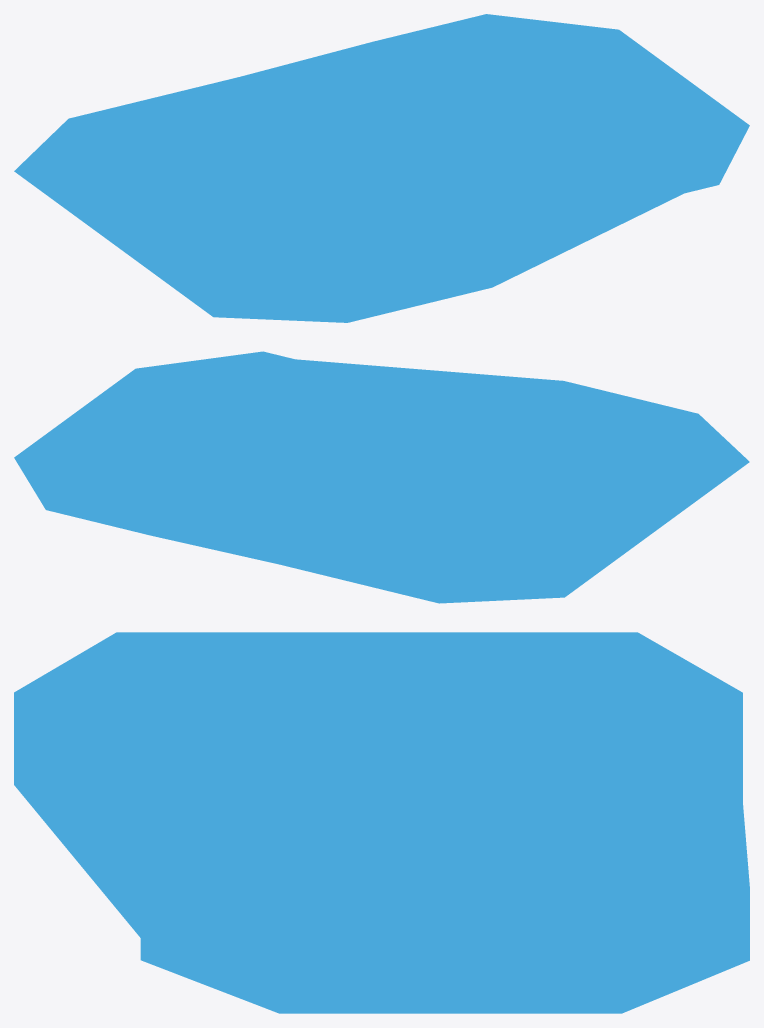
Rendered from hirise_parts02_pool_r_water.fbx.
3 views of the same model, one above another, from view 1: azimuth 30°, elevation 25°; view 2: azimuth 150°, elevation 25°; view 3: azimuth 270°, elevation 25° (orthographic). The views are drawn at different scales.
Visible parts, largest first — view 1: hirise_parts02_pool_r_water; view 2: hirise_parts02_pool_r_water; view 3: hirise_parts02_pool_r_water.
Part boxes in pixels (box(x1,y1,x2,y2)): hirise_parts02_pool_r_water: box(14, 14, 749, 322); hirise_parts02_pool_r_water: box(14, 351, 749, 603); hirise_parts02_pool_r_water: box(14, 632, 749, 1013).
Bounding box in the file's own units: 4.11 × 1.62e-05 × 3.35.
